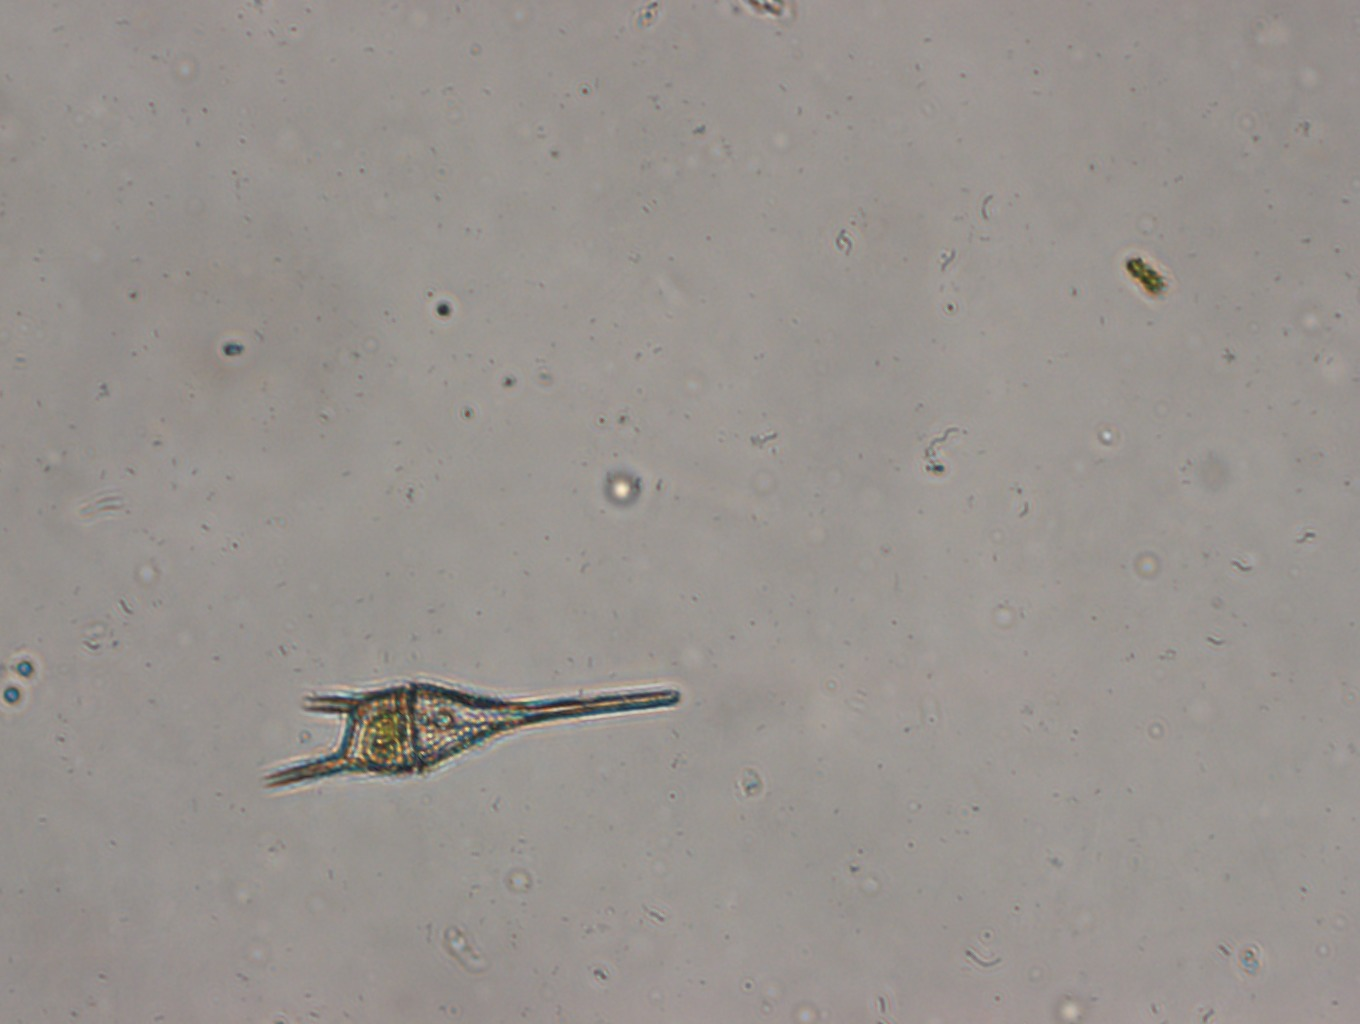ceratium furca: (256, 659, 691, 802)
